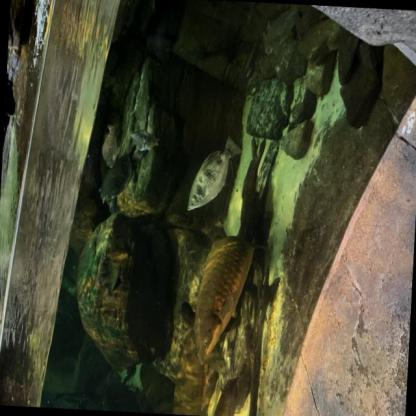fish: (192, 226, 256, 367), (185, 133, 245, 214), (264, 8, 302, 58), (99, 121, 124, 170), (126, 126, 162, 154), (206, 341, 229, 376)
